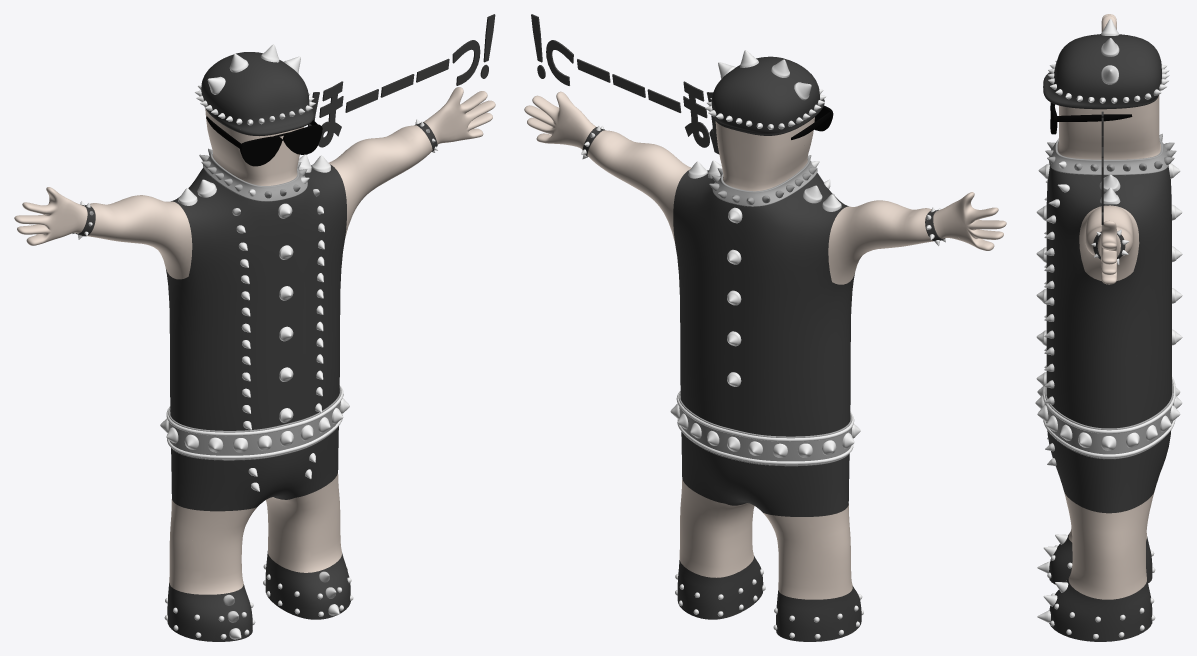
3 views of the same model, side by side, from view 1: azimuth 30°, elevation 25°; view 2: azimuth 150°, elevation 25°; view 3: azimuth 270°, elevation 25° (orthographic). The views are drawn at different scales.
Parts seen in each view (by area): view 1: 002_Ramon; view 2: 002_Ramon; view 3: 002_Ramon.
Boxes of the visible parts, box(x1,y1,x2,y2) form: 002_Ramon: box(14, 14, 495, 641); 002_Ramon: box(524, 14, 1006, 641); 002_Ramon: box(1035, 14, 1182, 641).
Bounding box in the file's own units: 0.2191 × 0.2439 × 0.0569.
